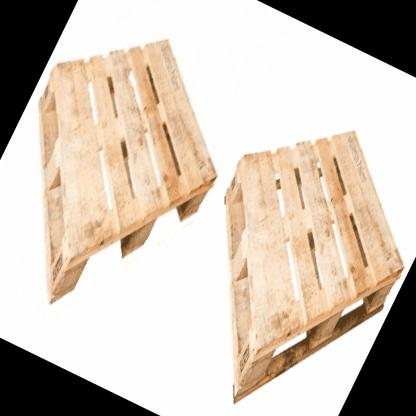BoxFace: (220, 123, 407, 411), (35, 34, 219, 312)
